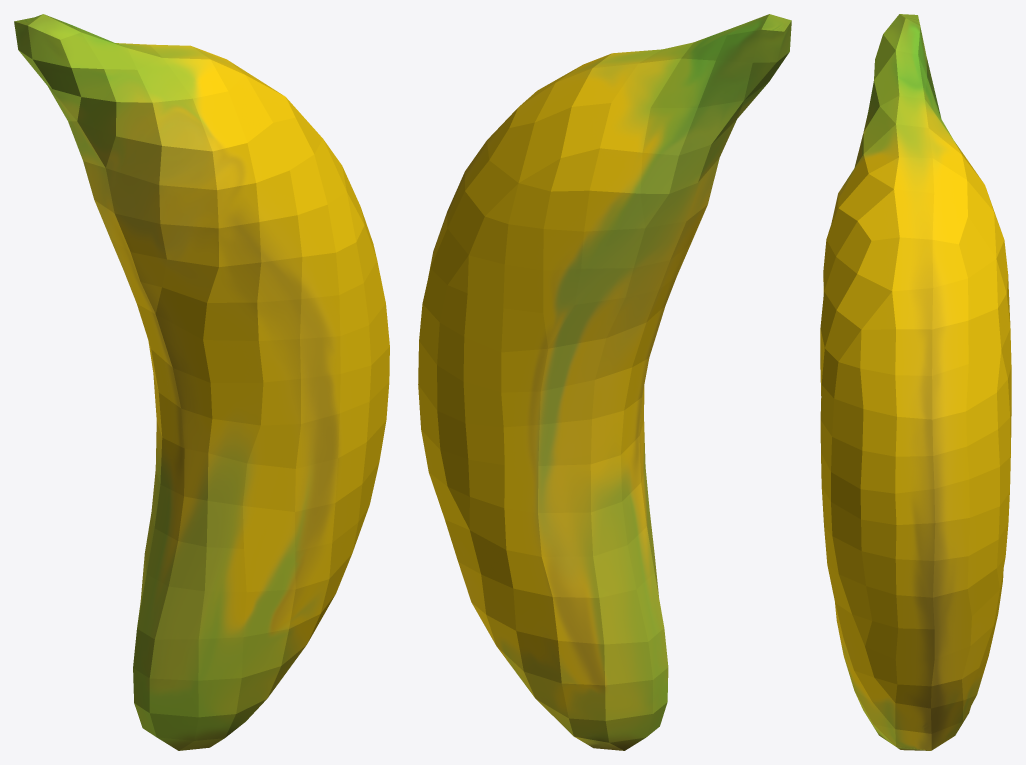
File: bananaFx.fbx
3 renders of one model, left to right at view 1: azimuth 30°, elevation 25°; view 2: azimuth 150°, elevation 25°; view 3: azimuth 270°, elevation 25°, orthographic. The views are drawn at different scales.
Parts seen in each view (by area): view 1: bana:Group8732; view 2: bana:Group8732; view 3: bana:Group8732.
Part boxes in pixels (x1,y1,x2,y2): bana:Group8732: [14, 14, 389, 750]; bana:Group8732: [418, 14, 791, 750]; bana:Group8732: [820, 14, 1011, 750].
Bounding box in the file's own units: 3.88 × 7.97 × 2.08.
Materials: 1 (1 with a texture image).
